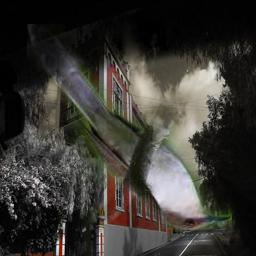Cuckoo: (27, 24, 232, 230)
